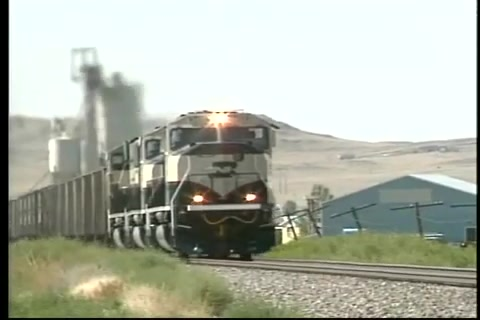train: (10, 109, 286, 258)
